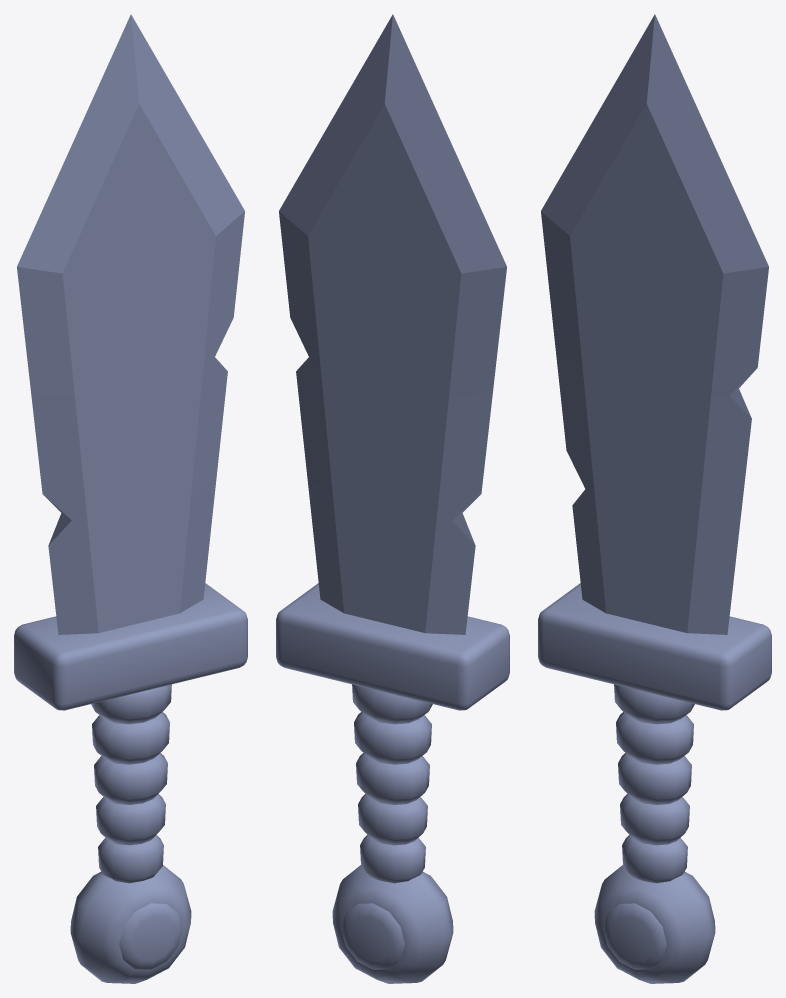
Rendered from rotating_sword.fbx.
3 views of the same model, side by side, from view 1: azimuth 30°, elevation 25°; view 2: azimuth 150°, elevation 25°; view 3: azimuth 330°, elevation 25° (orthographic).
Visible parts, largest first — view 1: 평면, 큐브, 실린더, 실린더.001, 실린더.002; view 2: 평면, 큐브, 실린더, 실린더.001, 실린더.002; view 3: 평면, 큐브, 실린더, 실린더.001, 실린더.002.
Boxes of the visible parts, x1,y1,x2,y2 form: 평면: (17, 14, 244, 634); 큐브: (14, 583, 247, 710); 실린더: (91, 684, 171, 883); 실린더.001: (70, 865, 191, 983); 실린더.002: (119, 903, 182, 969); 평면: (279, 14, 506, 634); 큐브: (276, 583, 509, 710); 실린더: (352, 684, 432, 883); 실린더.001: (332, 865, 453, 983); 실린더.002: (341, 903, 404, 969); 평면: (541, 14, 768, 634); 큐브: (538, 583, 771, 710); 실린더: (614, 684, 694, 883); 실린더.001: (594, 865, 715, 983); 실린더.002: (603, 903, 666, 969).
Size of the model in its own units: 237 by 959 by 84.26.
